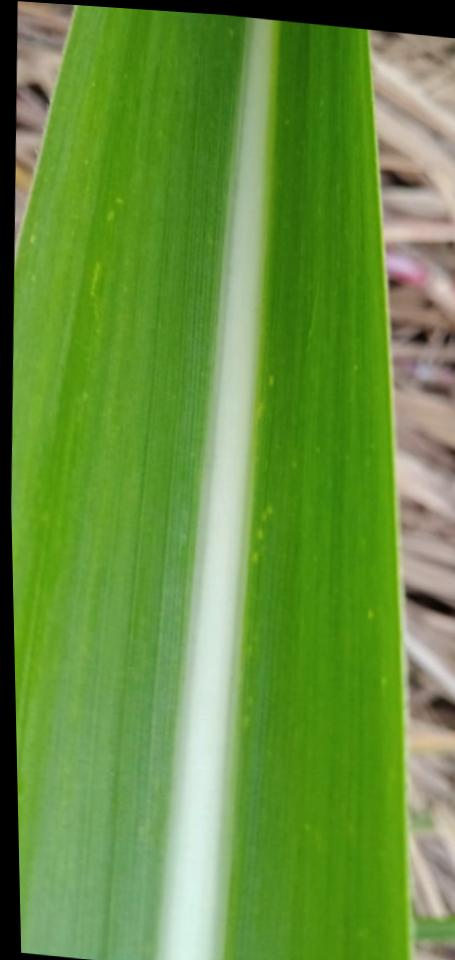Healthy: (11, 5, 414, 960)
